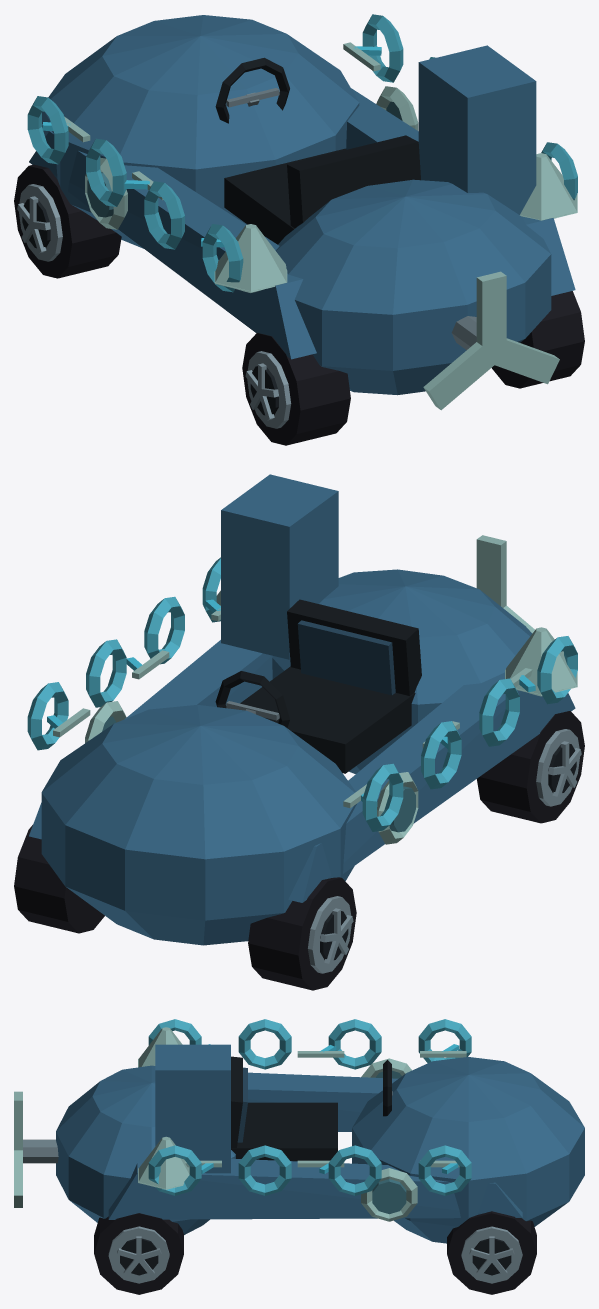
File: kart.glb
3 renders of one model, top to bottom at view 1: azimuth 30°, elevation 25°; view 2: azimuth 150°, elevation 25°; view 3: azimuth 270°, elevation 25°, orthographic. The views are drawn at different scales.
Visible parts, largest first — view 1: identity-submarine-submarine-rounded-bow-and-stern-propeller, identity-submarine-driver-cockpit, identity-submarine-motif-water, wheel-rear-left, wheel-front-left, identity-submarine-motif-gems, wheel-rear-right, identity-submarine-motif-runes; view 2: identity-submarine-submarine-rounded-bow-and-stern-propeller, identity-submarine-driver-cockpit, identity-submarine-motif-water, wheel-front-left, wheel-rear-left, wheel-front-right, identity-submarine-motif-gems, identity-submarine-motif-runes; view 3: identity-submarine-submarine-rounded-bow-and-stern-propeller, identity-submarine-motif-water, identity-submarine-driver-cockpit, wheel-rear-right, wheel-front-right, identity-submarine-motif-gems, identity-submarine-motif-runes.
Part boxes in pixels (x1=…): identity-submarine-submarine-rounded-bow-and-stern-propeller: x1=29, y1=15, x2=575, y2=410; identity-submarine-driver-cockpit: x1=215, y1=57, x2=420, y2=244; identity-submarine-motif-water: x1=27, y1=14, x2=577, y2=292; wheel-rear-left: x1=242, y1=333, x2=350, y2=445; wheel-front-left: x1=14, y1=164, x2=121, y2=278; identity-submarine-motif-gems: x1=214, y1=153, x2=577, y2=292; wheel-rear-right: x1=492, y1=291, x2=584, y2=388; identity-submarine-motif-runes: x1=42, y1=42, x2=381, y2=247; identity-submarine-submarine-rounded-bow-and-stern-propeller: x1=29, y1=474, x2=575, y2=945; identity-submarine-driver-cockpit: x1=215, y1=599, x2=421, y2=773; identity-submarine-motif-water: x1=27, y1=557, x2=577, y2=831; wheel-front-left: x1=248, y1=877, x2=356, y2=990; wheel-rear-left: x1=477, y1=711, x2=584, y2=823; wheel-front-right: x1=14, y1=825, x2=104, y2=933; identity-submarine-motif-gems: x1=216, y1=590, x2=577, y2=696; identity-submarine-motif-runes: x1=47, y1=599, x2=535, y2=808; identity-submarine-submarine-rounded-bow-and-stern-propeller: x1=14, y1=1044, x2=584, y2=1243; identity-submarine-motif-water: x1=148, y1=1019, x2=471, y2=1195; identity-submarine-driver-cockpit: x1=231, y1=1056, x2=392, y2=1161; wheel-rear-right: x1=94, y1=1213, x2=183, y2=1294; wheel-front-right: x1=447, y1=1211, x2=536, y2=1294; identity-submarine-motif-gems: x1=138, y1=1027, x2=189, y2=1189; identity-submarine-motif-runes: x1=185, y1=1044, x2=466, y2=1173.
Size of the model in its own units: 1.8 by 1.36 by 3.17.
